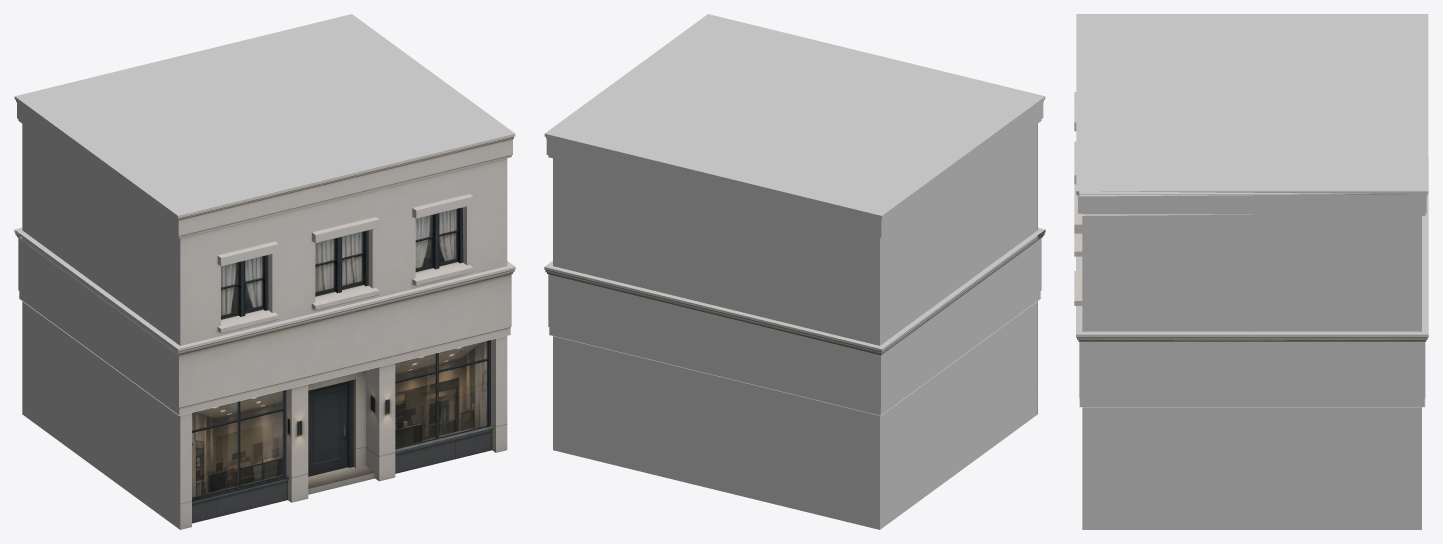
File: mockup-storefront.glb
3 renders of one model, left to right at view 1: azimuth 30°, elevation 25°; view 2: azimuth 150°, elevation 25°; view 3: azimuth 270°, elevation 25°, orthographic. The views are drawn at different scales.
Visible parts, largest first — view 1: storefront 1; view 2: storefront 1; view 3: storefront 1.
Part boxes in pixels (x1,y1,x2,y2): storefront 1: (14,14,515,529); storefront 1: (544,14,1045,529); storefront 1: (1074,14,1428,529).
Bounding box in the file's own units: 9.35 × 8.39 × 7.89.
2 materials, 1 textured.
